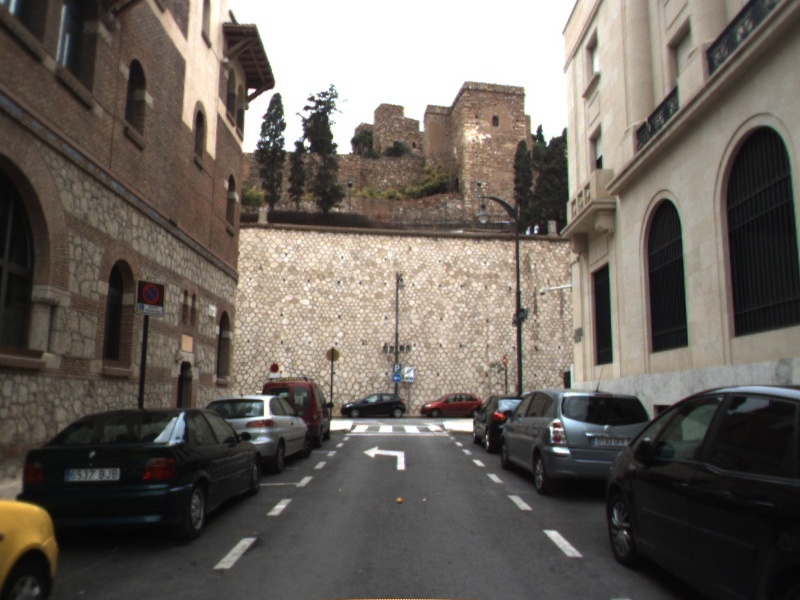LEFT: (362, 443, 407, 472)
